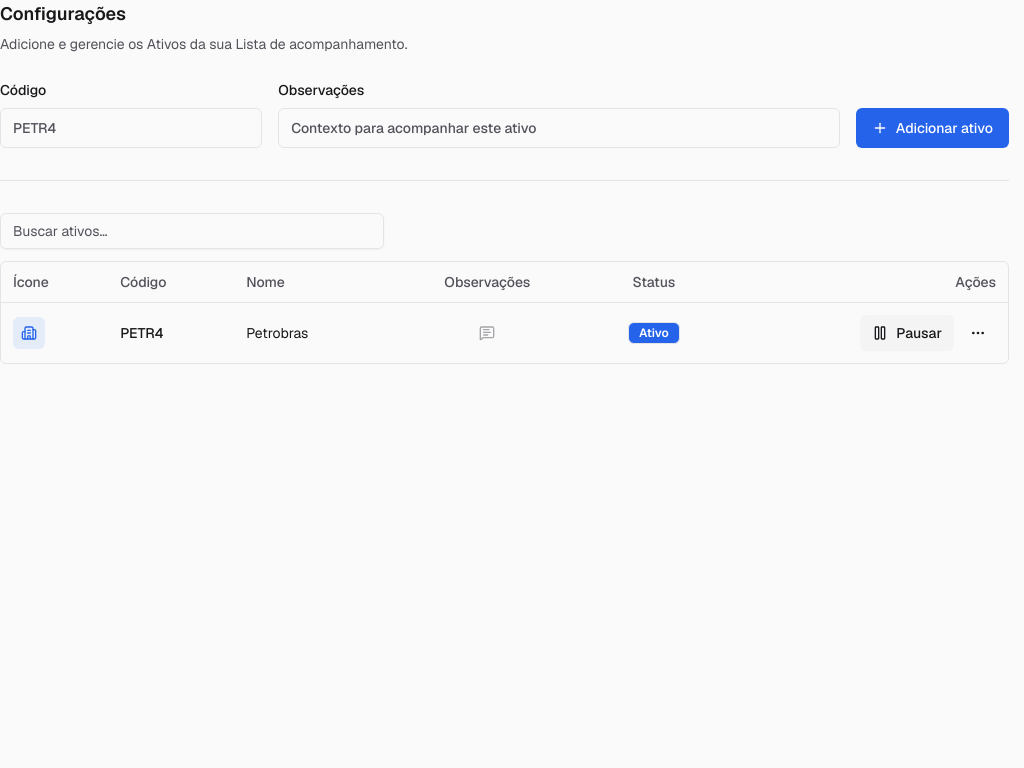
it: SettingsPage › renders existing Ativos with all management actions
The image size is (1024, 768).
Expected: the text "PETR4" is shown, [120,324,164,342]
Expected: the text "Petrobras" is shown, [246,324,308,342]
Step 1. Press the mouse on the button named "Mais ações para PETR4" → (978, 332), box [960,314,996,350]
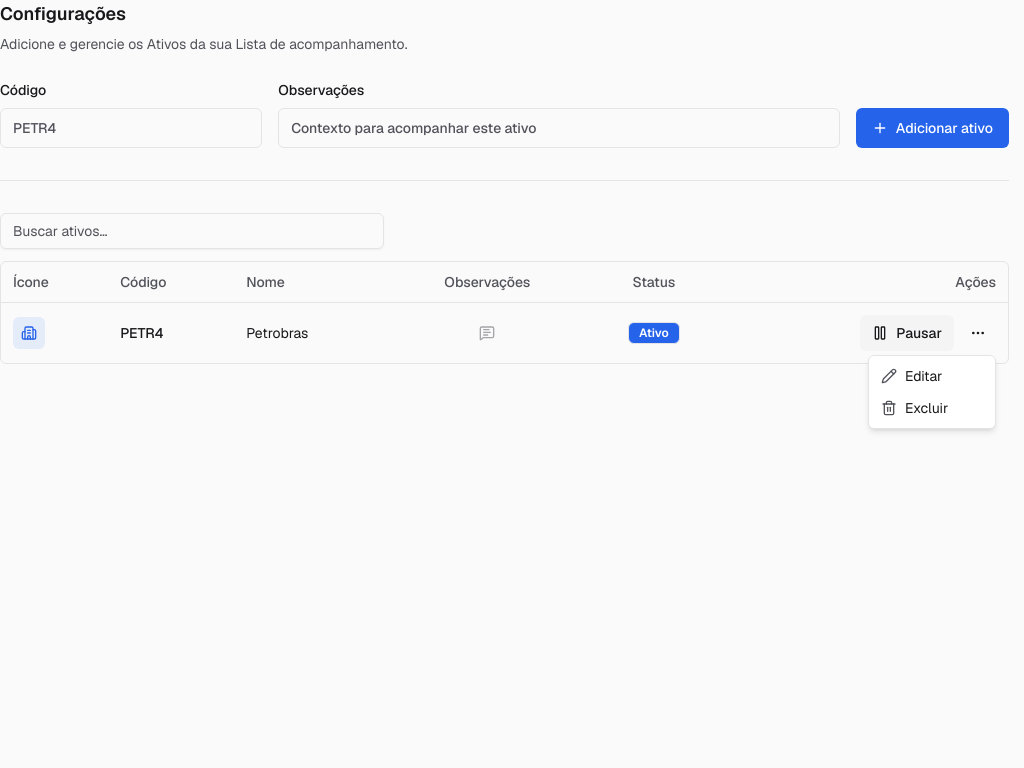
Now the menu item "Excluir" is shown, box [881,399,948,417]
Step 2. Click the menu item "Editar" → (912, 376), box [881,367,942,385]
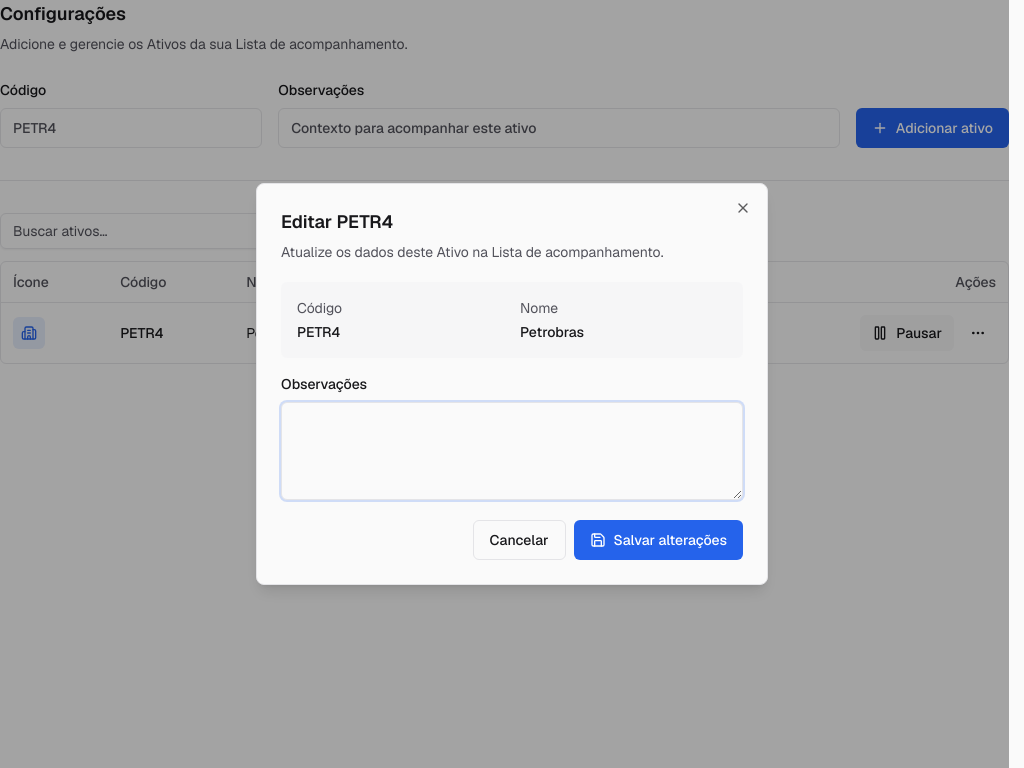
Now the dialog is shown, box [256,183,768,585]
Now the text box labelled "Observações" is shown, box [281,402,743,500]
Now the button "Salvar alterações" is shown, box [574,520,743,560]
